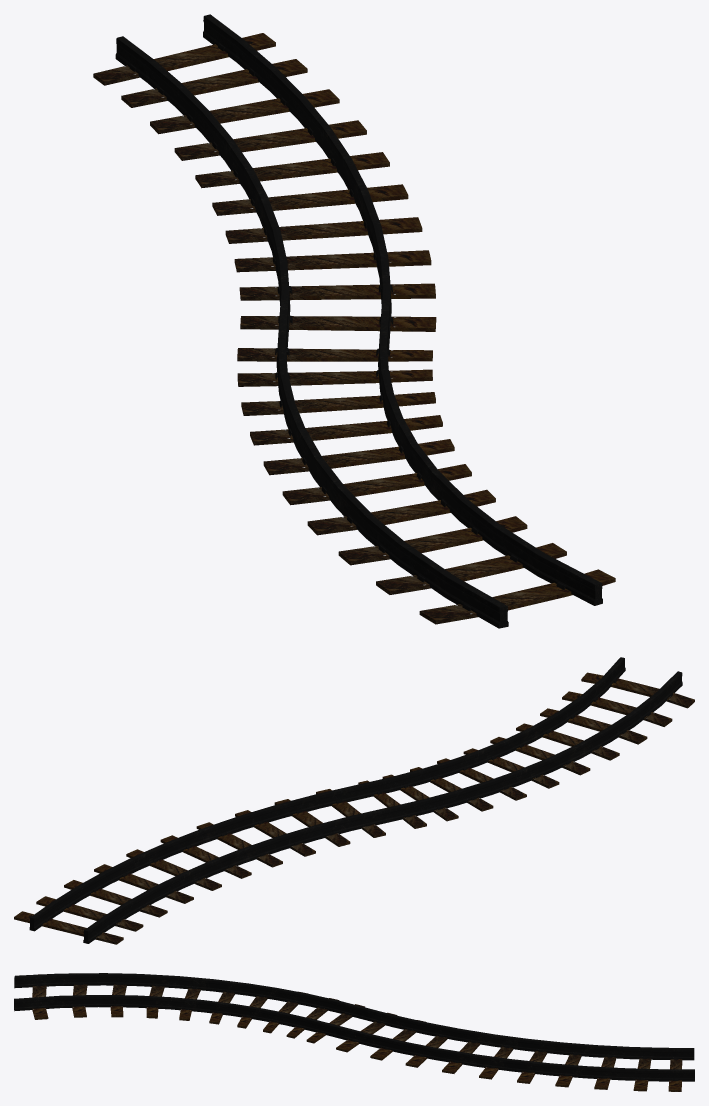
File: track2.gltf
3 renders of one model, top to bottom at view 1: azimuth 30°, elevation 25°; view 2: azimuth 150°, elevation 25°; view 3: azimuth 270°, elevation 25°, orthographic. The views are drawn at different scales.
Visible parts, largest first — view 1: Track_01polySurface161_lambert1_0.002; view 2: Track_01polySurface161_lambert1_0.002; view 3: Track_01polySurface161_lambert1_0.002.
Boxes of the visible parts, <box> form: Track_01polySurface161_lambert1_0.002: <box>93,14,615,628</box>; Track_01polySurface161_lambert1_0.002: <box>14,657,694,944</box>; Track_01polySurface161_lambert1_0.002: <box>14,973,694,1091</box>.
Size of the model in its own units: 113 by 5.12 by 279.
Materials: 1 (1 with a texture image).
